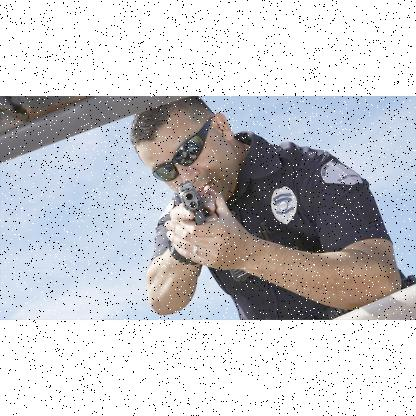gun: (172, 180, 216, 258)
